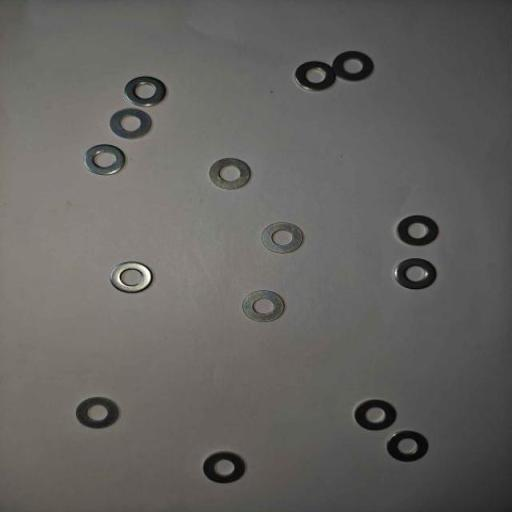Washer: (385, 429, 430, 464), (201, 451, 247, 485), (393, 257, 438, 291), (241, 289, 286, 323), (75, 396, 120, 430), (353, 398, 398, 432), (394, 214, 440, 247), (208, 157, 252, 191), (261, 221, 305, 255), (109, 261, 154, 294), (109, 108, 154, 140), (84, 143, 127, 176), (123, 75, 167, 107), (333, 50, 375, 83), (294, 60, 337, 92)
